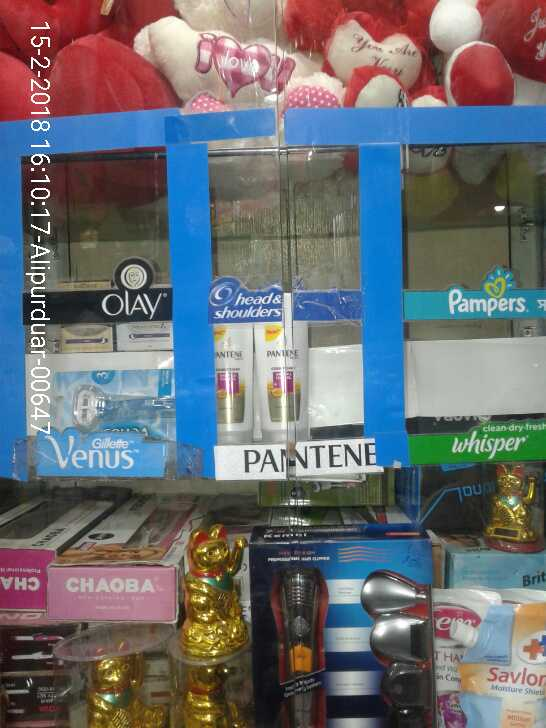venus: (51, 368, 172, 437)
